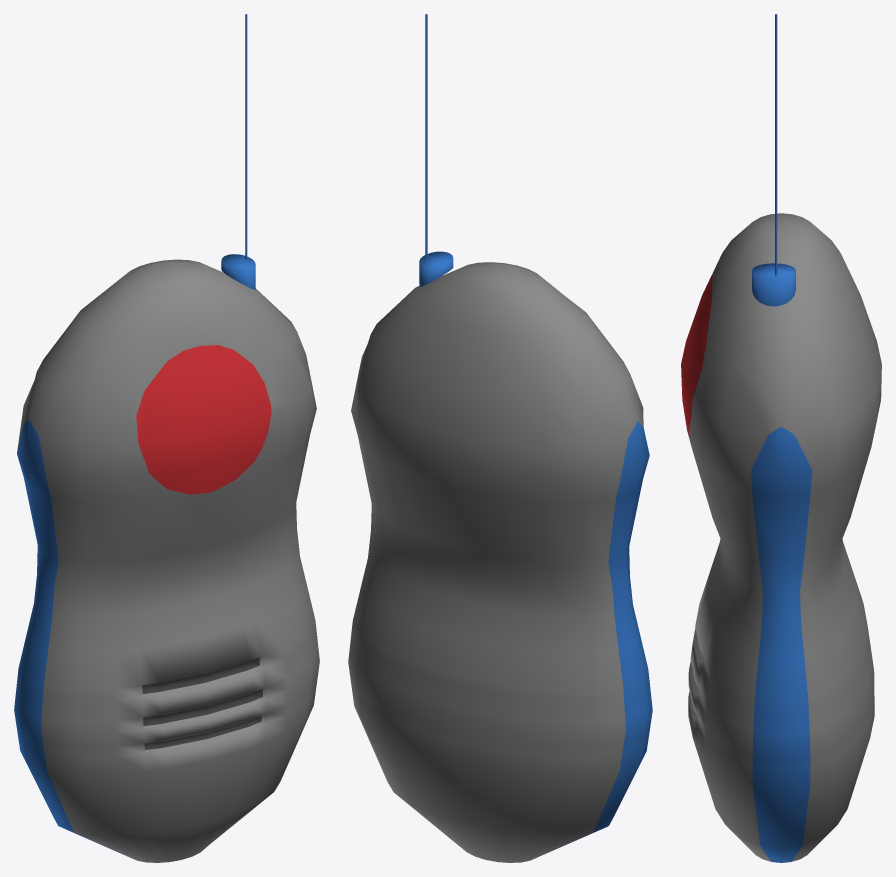
File: Walkie.fbx
3 views of the same model, side by side, from view 1: azimuth 30°, elevation 25°; view 2: azimuth 150°, elevation 25°; view 3: azimuth 270°, elevation 25° (orthographic). The views are drawn at different scales.
Parts seen in each view (by area): view 1: Circle; view 2: Circle; view 3: Circle.
Boxes of the visible parts, <box> form: Circle: <box>14,14,319,862</box>; Circle: <box>348,14,652,862</box>; Circle: <box>681,14,881,862</box>.
Size of the model in its own units: 125 by 337 by 69.62.
